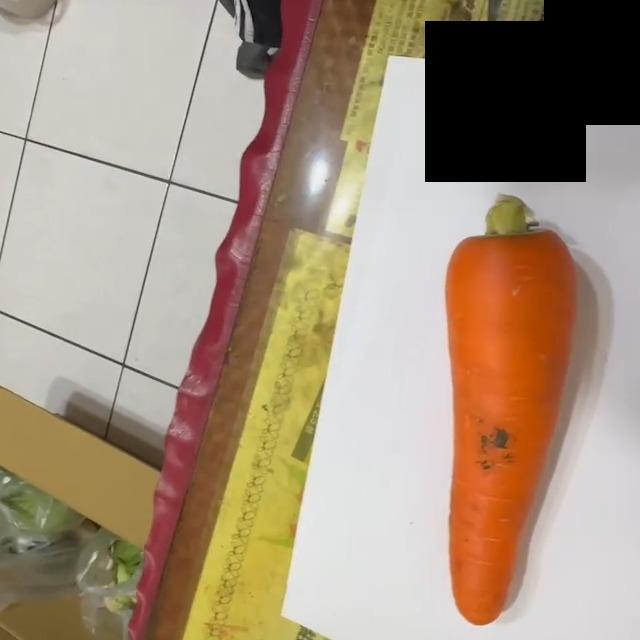carrot: (436, 192, 583, 627)
